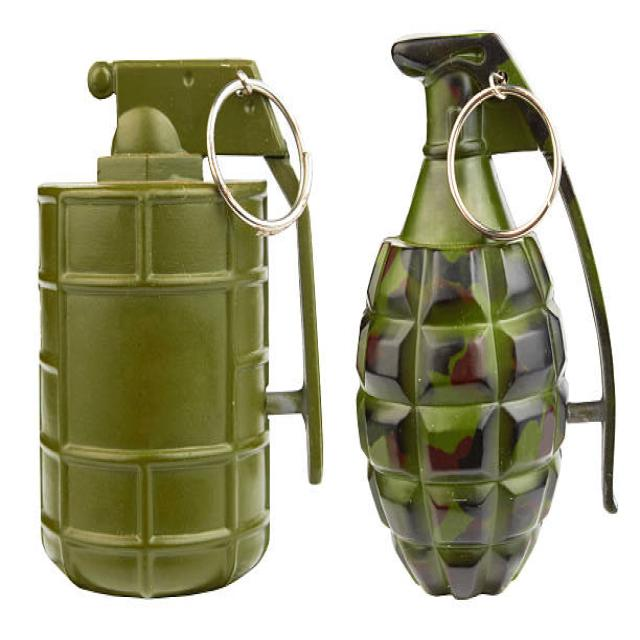grenade: (24, 34, 342, 624), (353, 23, 629, 607)
